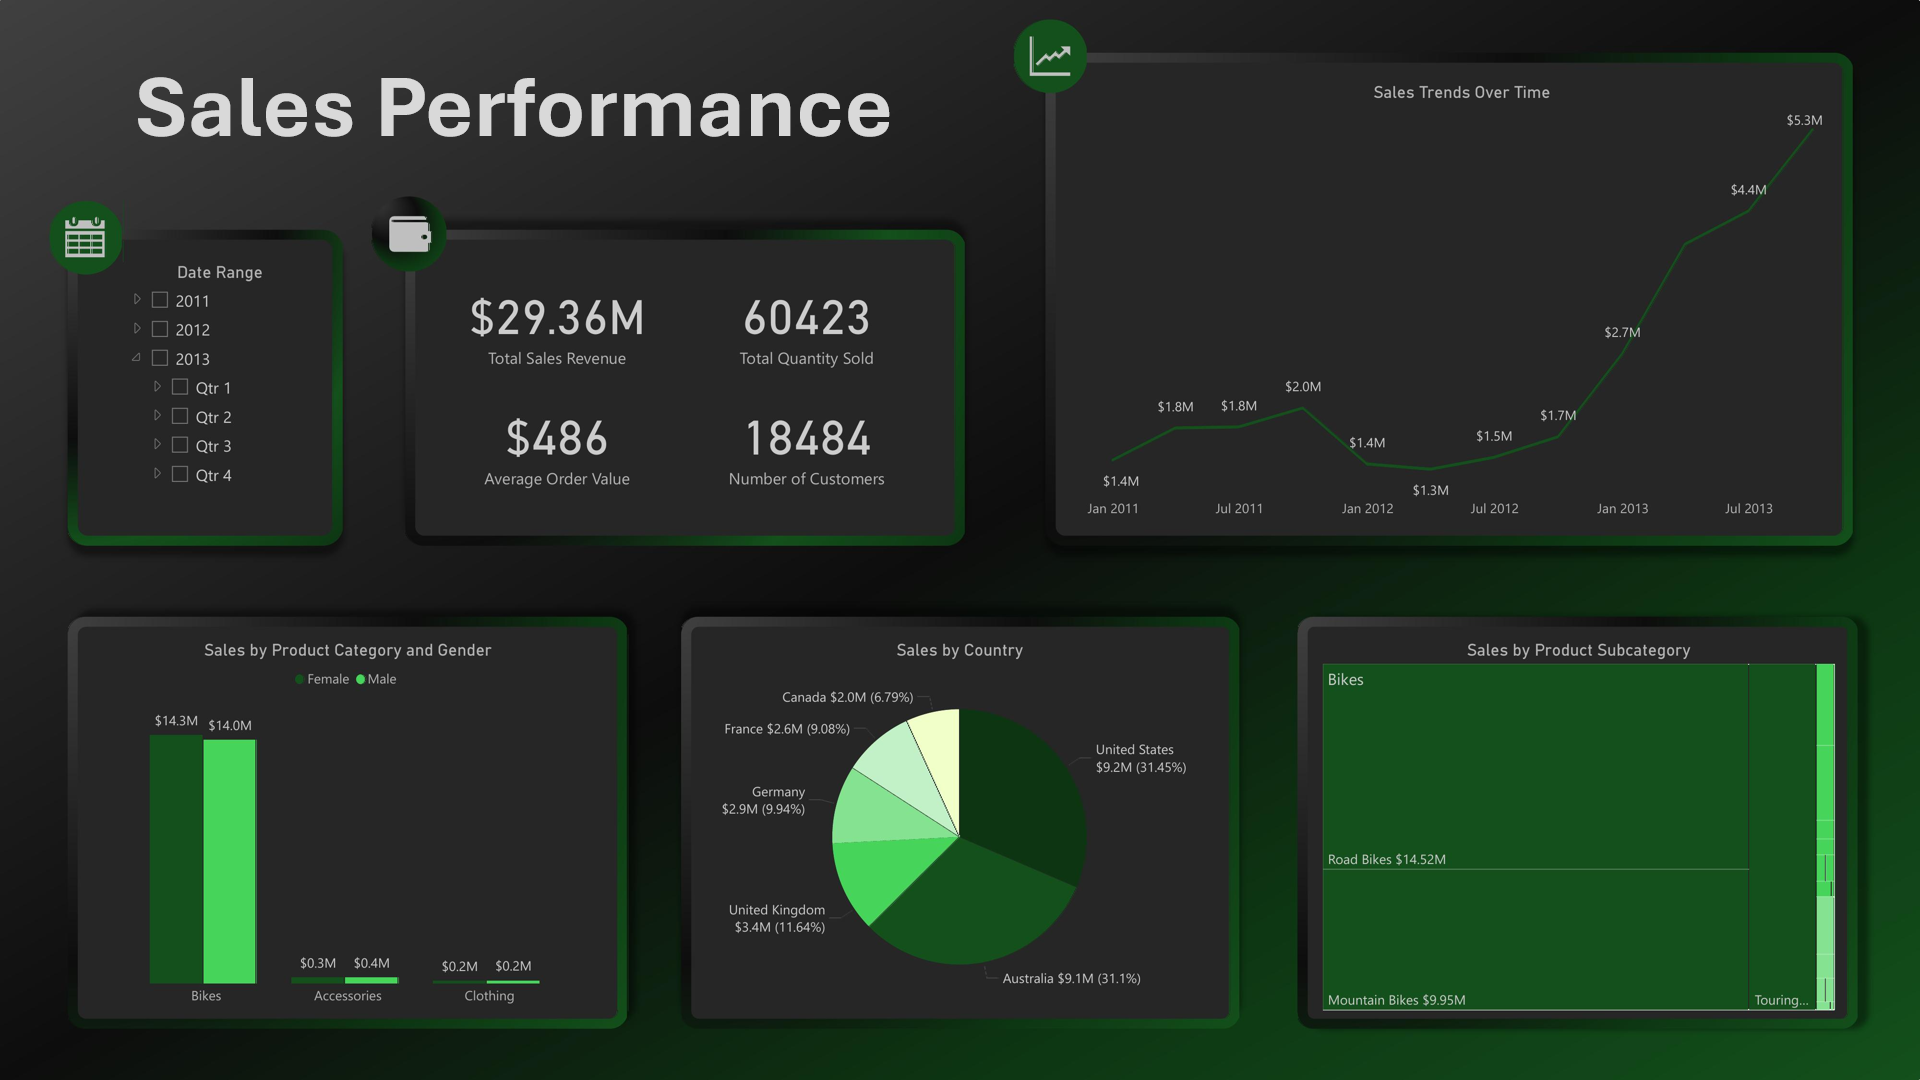

What the dashboard file says about the page in this screenshot:
{"tool":"powerbi","page":{"name":"Sales Performance","canvas":[1920,1080],"ordinal":0},"visuals":[{"type":"card","fields":{"Values":["Sum(gold fact_sales.sales_amount)"]},"box":[433.3,261.7,248.6,120.7],"z":0,"group":"g1"},{"type":"card","fields":{"Values":["Sum(gold fact_sales.quantity)"]},"box":[681.9,261.7,250.4,120.7],"z":1000,"group":"g1"},{"type":"card","fields":{"Values":["Count(gold dim_customers.customer_key)"]},"box":[681.9,382.4,250.4,120.7],"z":2000,"group":"g1"},{"type":"card","fields":{"Values":["Avg(gold fact_sales.price)"]},"box":[433.3,382.4,248.6,120.7],"z":3000,"group":"g1"},{"type":"clusteredColumnChart","title":"Sales by Product Category and Gender","fields":{"Series":["gold dim_customers.gender"],"Y":["Sum(gold fact_sales.sales_amount)"],"Category":["gold dim_products.category"]},"box":[87.5,640,520,375],"z":3000},{"type":"lineChart","title":"Sales Trends Over Time","fields":{"Y":["Sum(gold fact_sales.sales_amount)"],"Category":["gold fact_sales.order_date.Variation.Date Hierarchy.Year","gold fact_sales.order_date.Variation.Date Hierarchy.Quarter","gold fact_sales.order_date.Variation.Date Hierarchy.Month"]},"box":[1081.7,81.7,760,446.7],"z":7000},{"type":"treemap","title":"Sales by Product Subcategory","fields":{"Group":["gold dim_products.category"],"Details":["gold dim_products.subcategory"],"Values":["Sum(gold fact_sales.sales_amount)"]},"box":[1317.5,640,522.5,375],"z":8000},{"type":"slicer","title":"Date Range","fields":{"Values":["gold fact_sales.order_date.Variation.Date Hierarchy.Year","gold fact_sales.order_date.Variation.Date Hierarchy.Quarter","gold fact_sales.order_date.Variation.Date Hierarchy.Month","gold fact_sales.order_date.Variation.Date Hierarchy.Day"]},"box":[115,261.7,210,241.7],"z":9000},{"type":"group","id":"g1","title":"Group 1","box":[433.3,261.7,500,241.7],"z":11000},{"type":"pieChart","title":"Sales by Country","fields":{"Y":["Sum(gold fact_sales.sales_amount)"],"Category":["gold dim_customers.country"]},"box":[700,640,520,375],"z":12000}]}

Visuals, with their boxes in screenshot pixels (x1, y1, x2, y2), scaled from the page's 1920x1080 canvas onto the 1920x1080 screenshot:
card - Sum(gold fact_sales.sales_amount): (433,262,682,382)
card - Sum(gold fact_sales.quantity): (682,262,932,382)
card - Count(gold dim_customers.customer_key): (682,382,932,503)
card - Avg(gold fact_sales.price): (433,382,682,503)
"Sales by Product Category and Gender" clusteredColumnChart: (88,640,608,1015)
"Sales Trends Over Time" lineChart: (1082,82,1842,528)
"Sales by Product Subcategory" treemap: (1318,640,1840,1015)
"Date Range" slicer: (115,262,325,503)
"Group 1" group: (433,262,933,503)
"Sales by Country" pieChart: (700,640,1220,1015)
